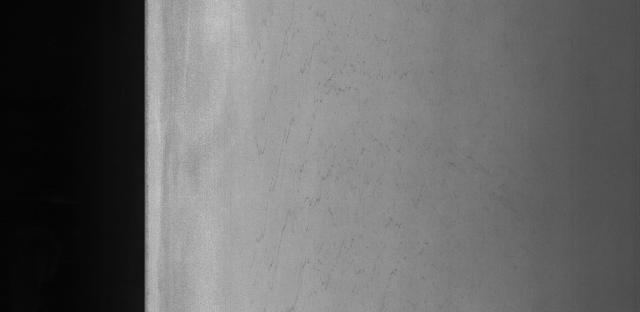silk_spot: (254, 16, 408, 288)
